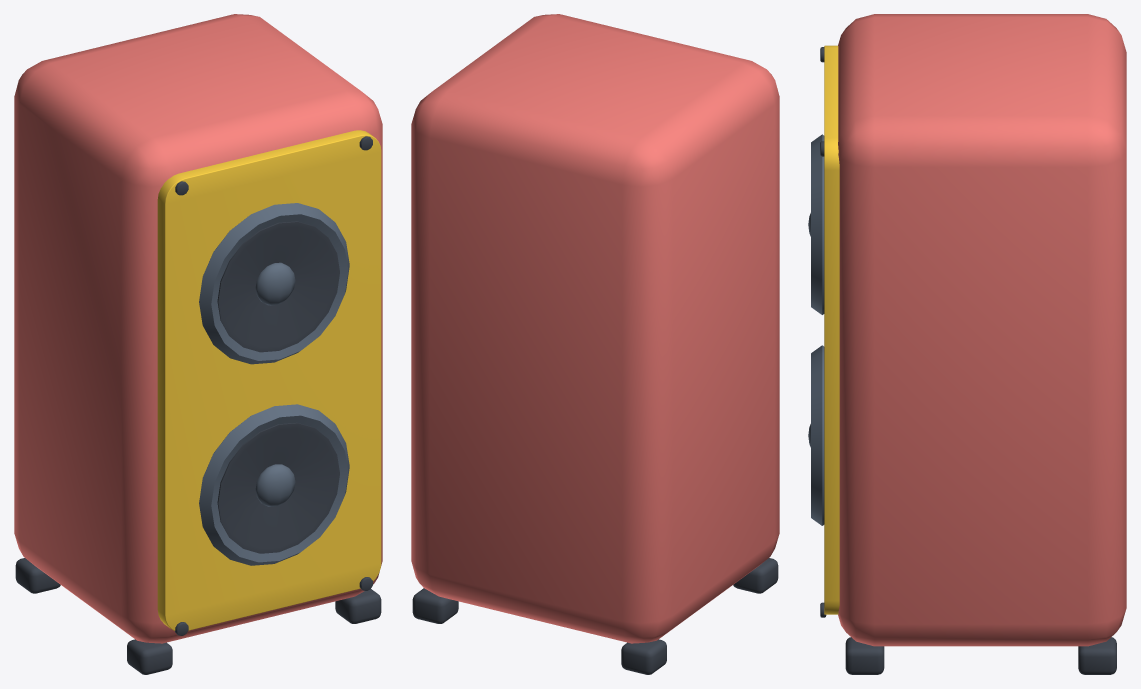
File: caixa_som_torre_vermelha.glb
The picture shows the model from 3 angles, left to right: view 1: azimuth 30°, elevation 25°; view 2: azimuth 150°, elevation 25°; view 3: azimuth 270°, elevation 25°; orthographic projection. The views are drawn at different scales.
Visible parts, largest first — view 1: caixa_som_torre_vermelha; view 2: caixa_som_torre_vermelha; view 3: caixa_som_torre_vermelha.
Boxes of the visible parts, <box> form: caixa_som_torre_vermelha: <box>14,14,382,674</box>; caixa_som_torre_vermelha: <box>411,14,779,674</box>; caixa_som_torre_vermelha: <box>808,14,1126,674</box>.
Size of the model in its own units: 0.32 by 0.625 by 0.3284.
Materials: 1 (1 with a texture image).
